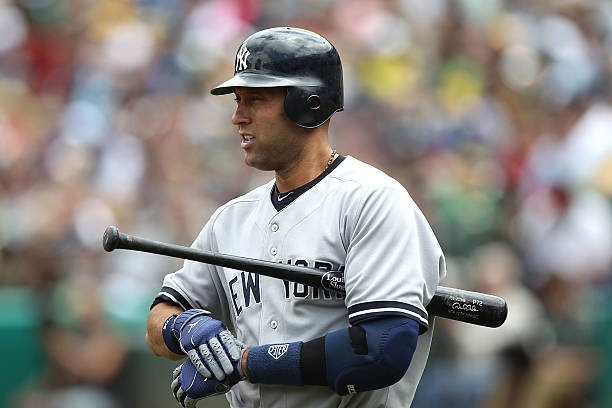bita: (100, 224, 507, 330)
